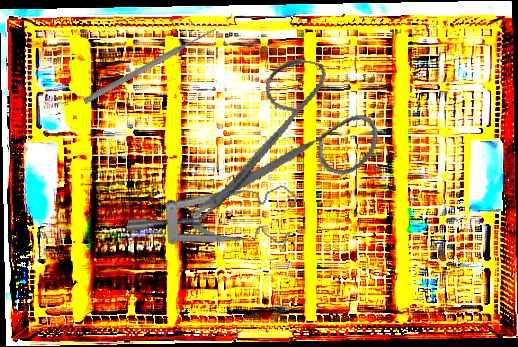Iris Scissors: (187, 42, 392, 257)
Pusher: (82, 25, 218, 106)
Speculum: (125, 141, 304, 282)
